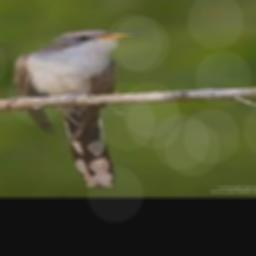Cuckoo: (15, 30, 145, 188)
